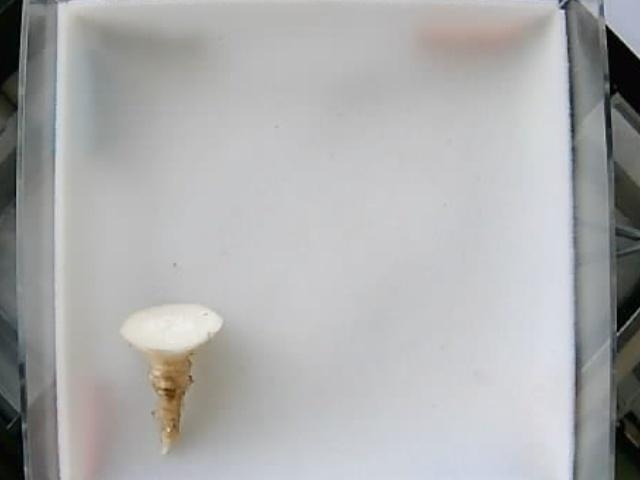Mooli: (118, 306, 223, 459)
